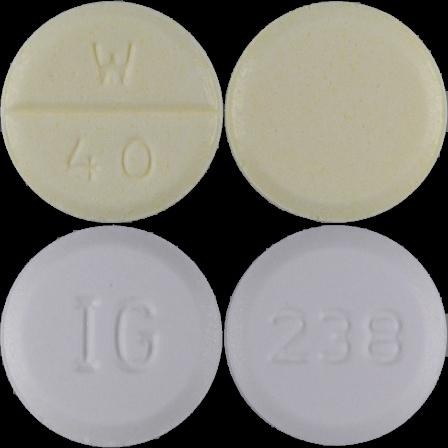53808-0165: (0, 0, 224, 224)
